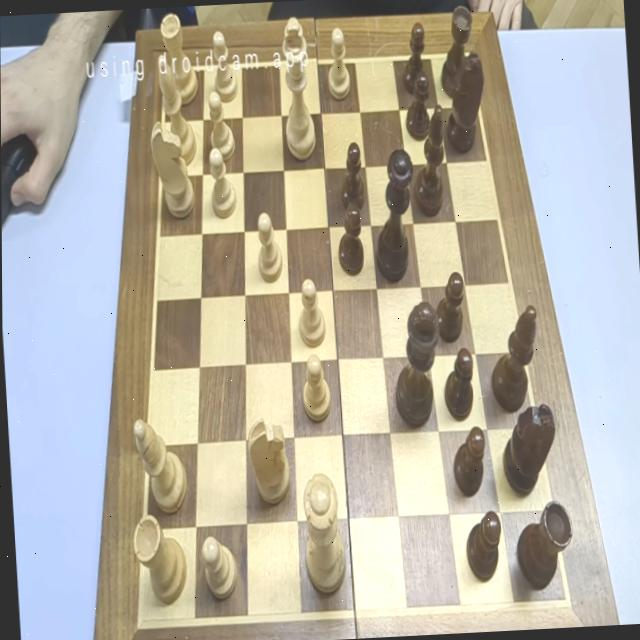black_bishop: (485, 303, 542, 414), (410, 104, 448, 215)
black_king: (390, 301, 445, 430)
black_knight: (499, 402, 559, 498), (441, 48, 489, 155)
black_pawn: (462, 510, 504, 582), (449, 426, 489, 498), (441, 347, 476, 422), (433, 270, 468, 344), (399, 22, 429, 98), (336, 202, 365, 276), (337, 138, 365, 212), (403, 71, 432, 140)
black_queen: (369, 147, 420, 285)
black_rook: (512, 498, 576, 590), (437, 5, 477, 100)
white_bishop: (132, 416, 189, 516), (157, 52, 197, 167)
white_king: (278, 16, 317, 162)
white_knight: (150, 118, 196, 220), (245, 416, 292, 505)
white_pawn: (199, 533, 237, 601), (207, 146, 238, 218), (301, 354, 333, 422), (295, 277, 326, 347), (254, 212, 284, 282), (207, 90, 236, 162), (211, 30, 239, 103), (325, 24, 351, 100)
white_queen: (299, 471, 347, 593)
white_rook: (131, 512, 189, 606), (160, 10, 199, 106)
